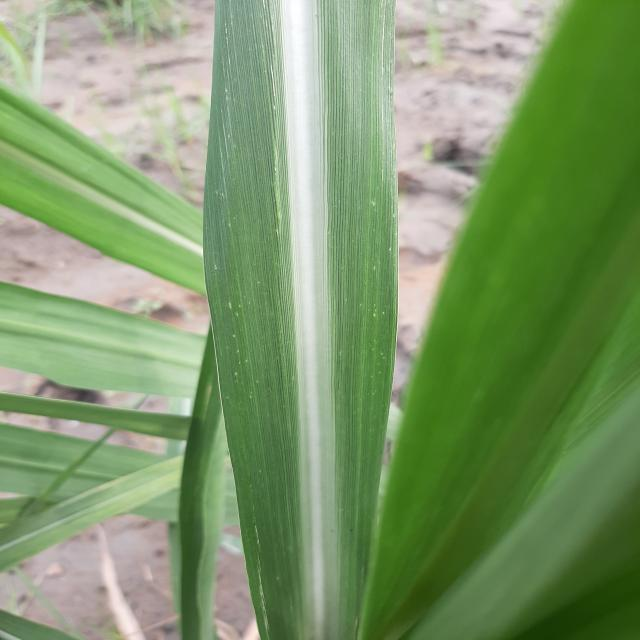Sugarcane: (1, 1, 639, 639), (200, 1, 400, 638)
